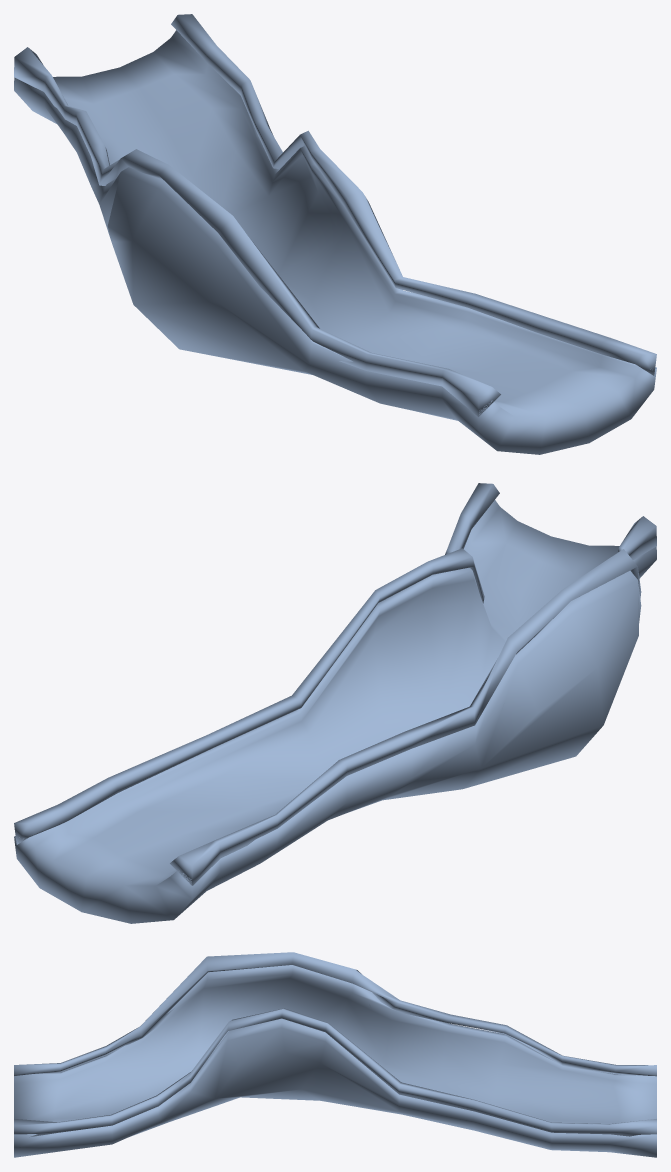
File: junRoadLongCurve10.fbx
3 renders of one model, top to bottom at view 1: azimuth 30°, elevation 25°; view 2: azimuth 150°, elevation 25°; view 3: azimuth 270°, elevation 25°, orthographic. The views are drawn at different scales.
Visible parts, largest first — view 1: roadLongCurve10_LOD0, roadLongCurve10_edge_LOD0; view 2: roadLongCurve10_LOD0, roadLongCurve10_edge_LOD0; view 3: roadLongCurve10_LOD0, roadLongCurve10_edge_LOD0.
Part boxes in pixels (x1,y1,x2,y2): roadLongCurve10_LOD0: (14, 30, 656, 454); roadLongCurve10_edge_LOD0: (14, 14, 656, 416); roadLongCurve10_LOD0: (14, 500, 656, 923); roadLongCurve10_edge_LOD0: (14, 483, 656, 885); roadLongCurve10_LOD0: (14, 965, 656, 1157); roadLongCurve10_edge_LOD0: (14, 952, 656, 1137).
Bounding box in the file's own units: 1765 × 969 × 4378.
